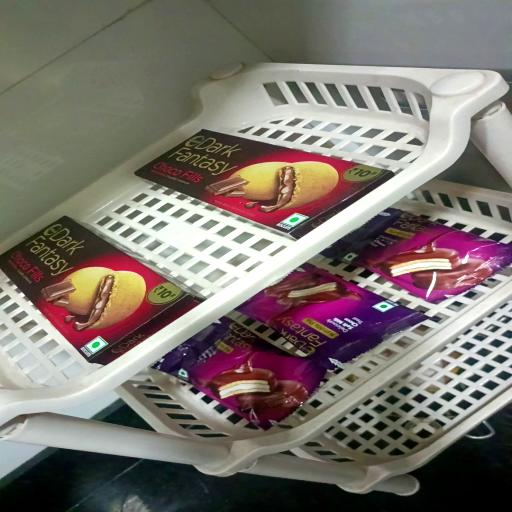Choco Fills: (0, 211, 204, 361), (130, 127, 392, 237)
Choco Pie: (234, 263, 432, 367), (154, 317, 331, 428), (325, 209, 511, 304)
